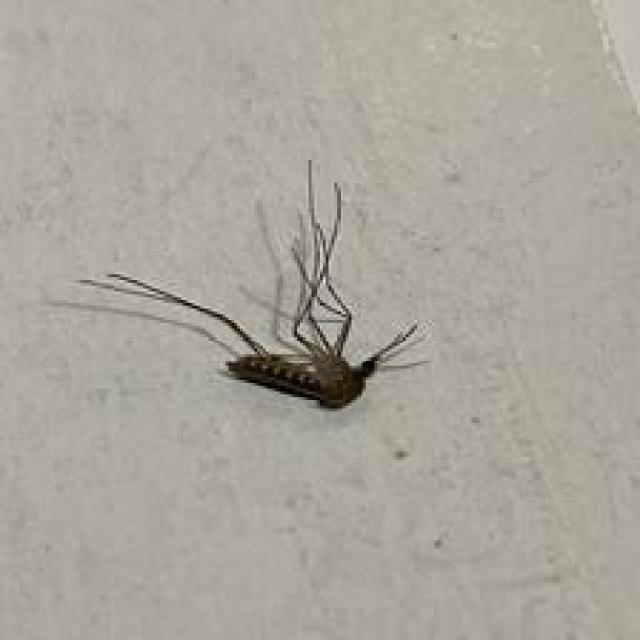Culex: (46, 157, 431, 412)
